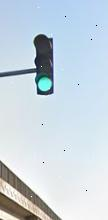greenlight: (33, 36, 53, 95)
